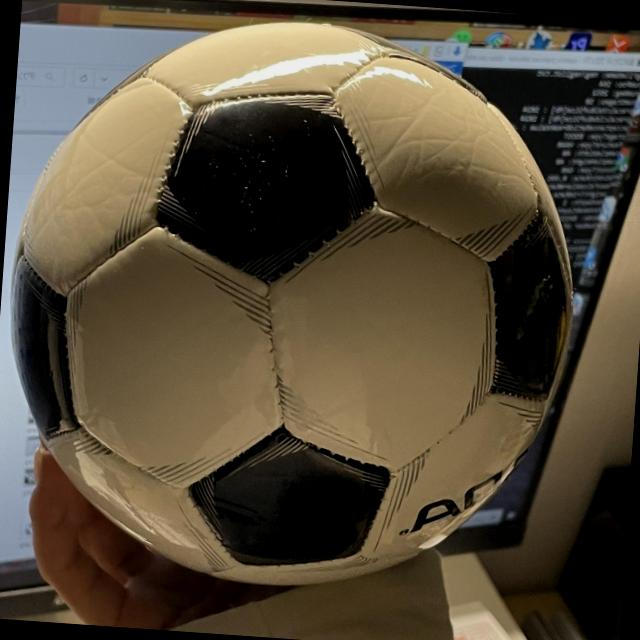Soccer Ball: (0, 0, 596, 610)
